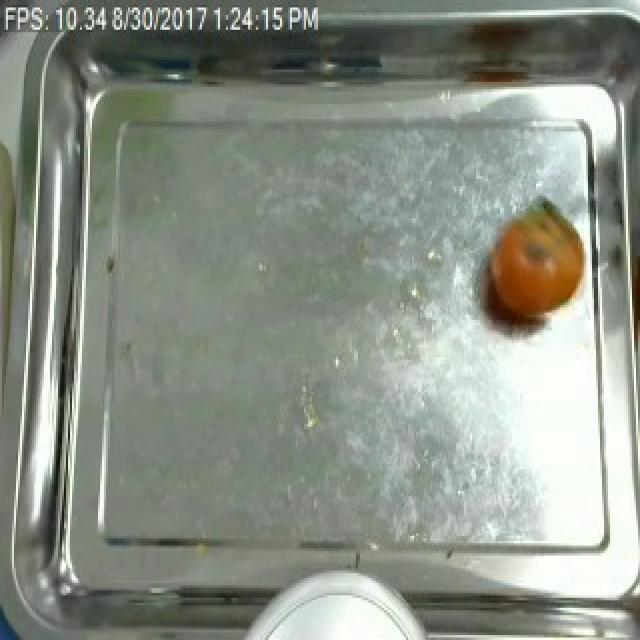Fruit: (480, 201, 592, 322)
